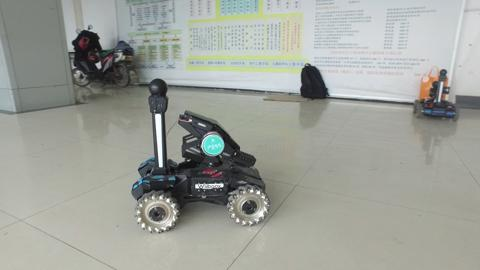bag: (298, 61, 330, 102), (420, 64, 449, 101)
chariot: (128, 77, 270, 234), (411, 68, 460, 124)
